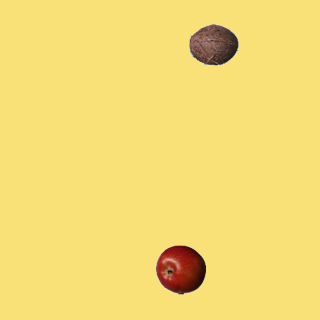Apple Braeburn: (155, 244, 205, 294)
Cocos: (188, 19, 238, 69)
